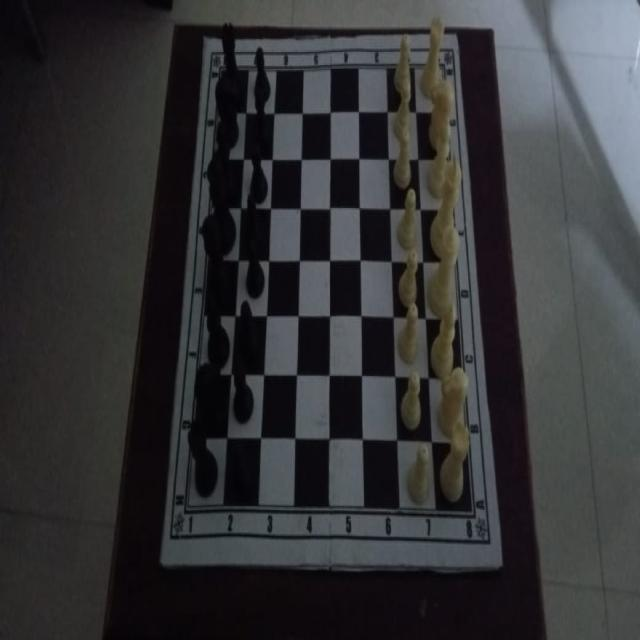corners: (152, 550, 168, 576), (449, 28, 463, 54), (494, 553, 506, 577), (200, 29, 213, 51)
